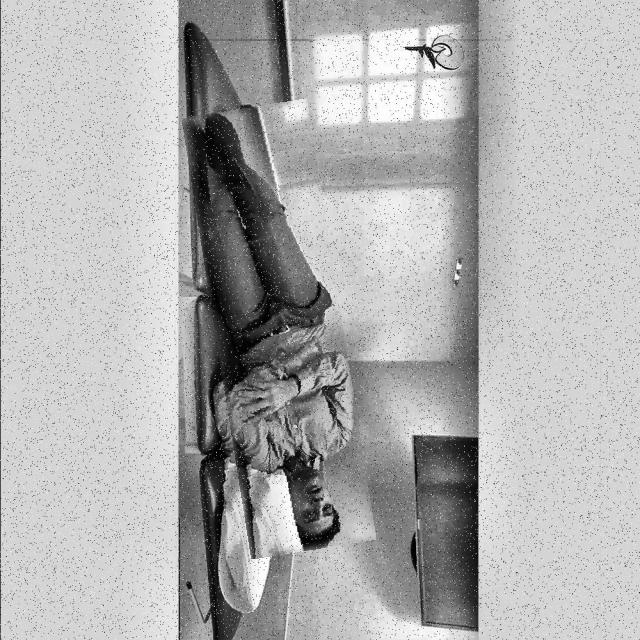Not_Supine: (200, 113, 353, 551)
